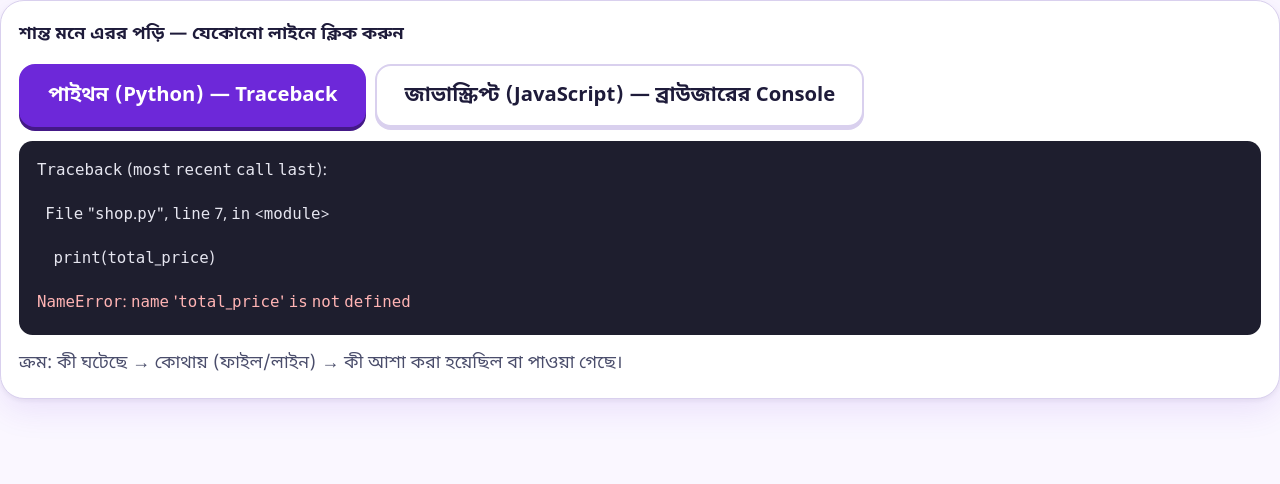
Test: ErrorReader widget › explains clicked lines in both samples
Expected: the text with test id "er-hint" is shown, [19,351,623,375]
Click the button with test id "er-line-p4" at (224, 303), box [28,282,1252,326]
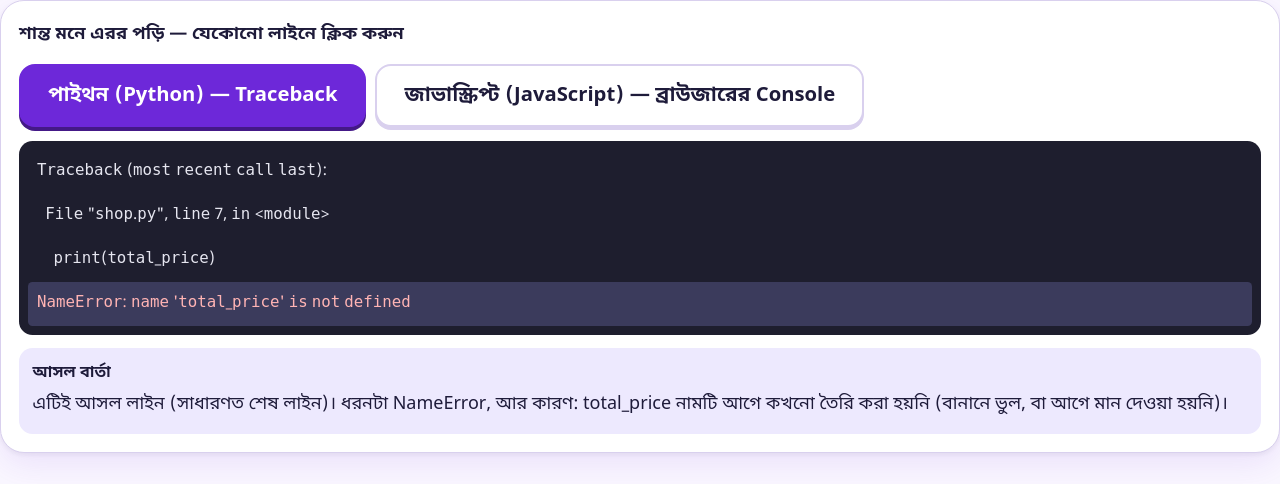
Expected: the message with test id "er-note" shows "আসল লাইন", [32,392,1228,416]
Click the tab with test id "er-tab-javascript" at (620, 96), box [376,64,864,127]
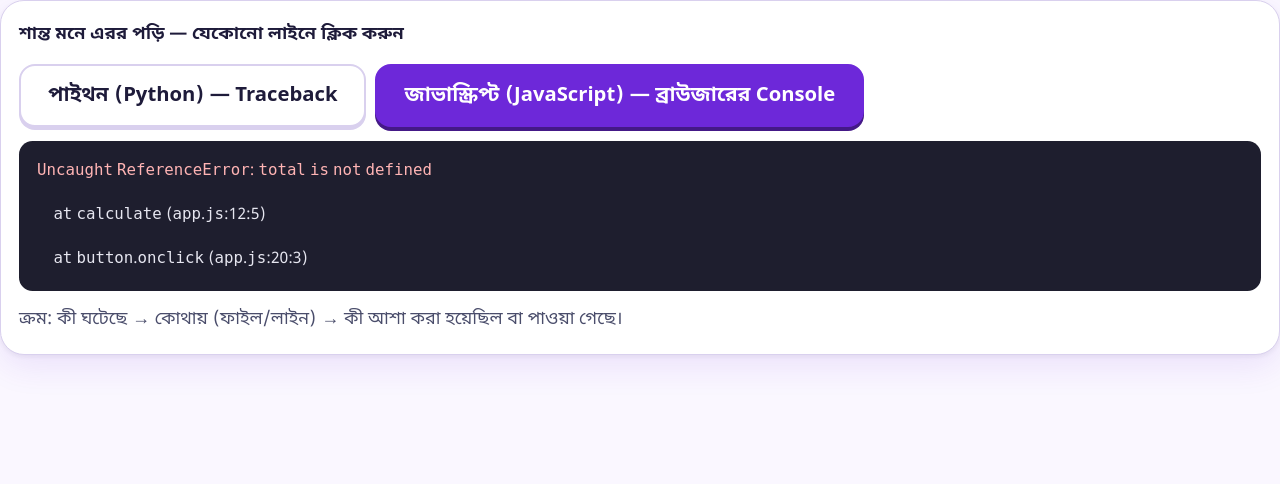
Click the button with test id "er-line-j2" at (152, 215), box [28,194,1252,238]
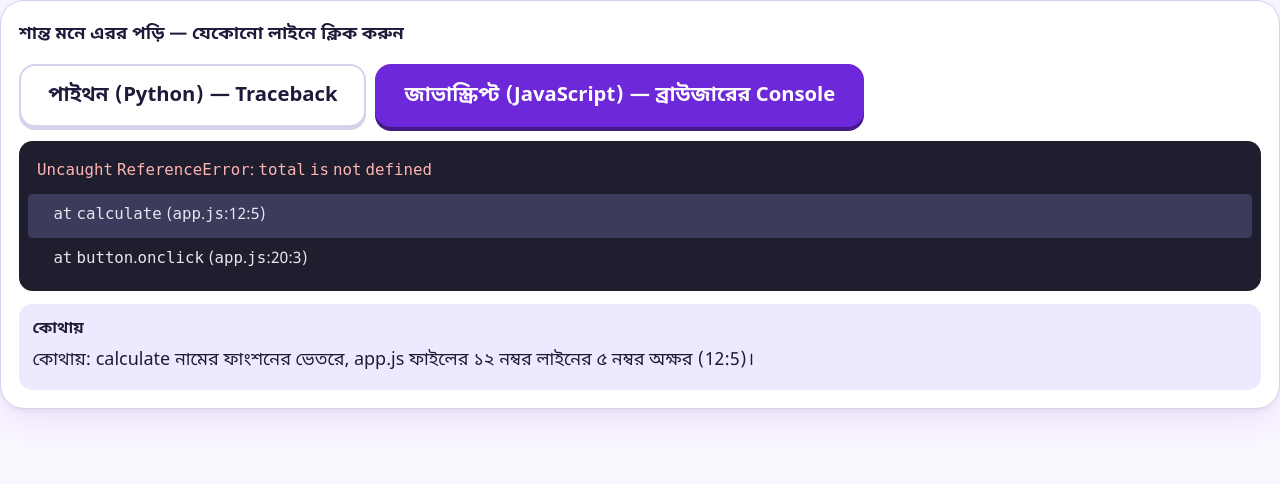
Expected: the message with test id "er-note" shows "app.js", [32,348,754,372]
